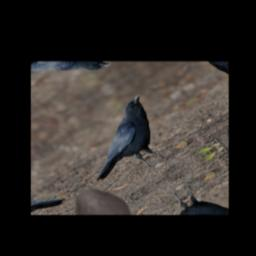Crow: (61, 93, 190, 194)
